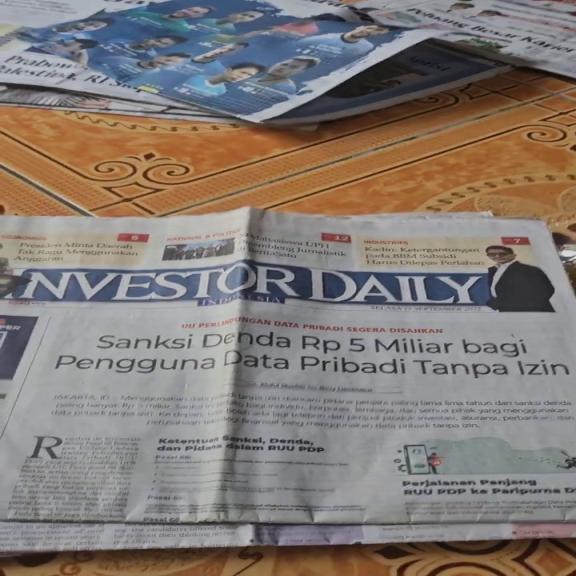Kertas: (4, 204, 570, 546), (4, 0, 442, 124), (3, 305, 243, 527)
